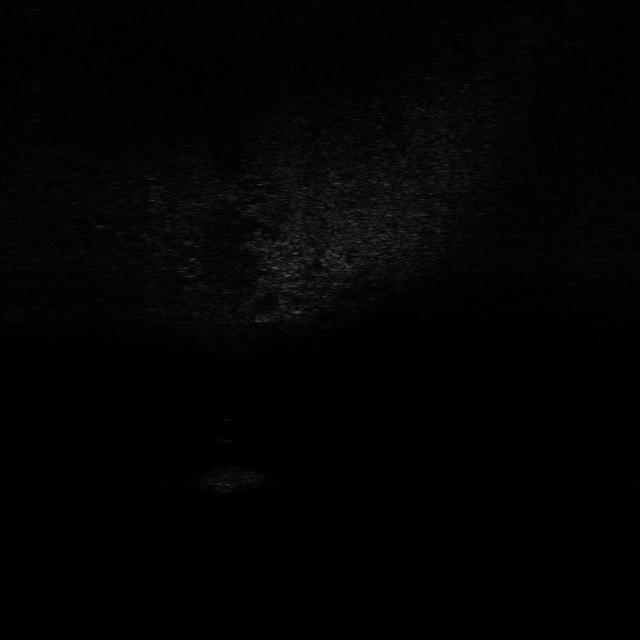ball: (208, 412, 252, 442)
circle cage: (193, 463, 272, 499)
